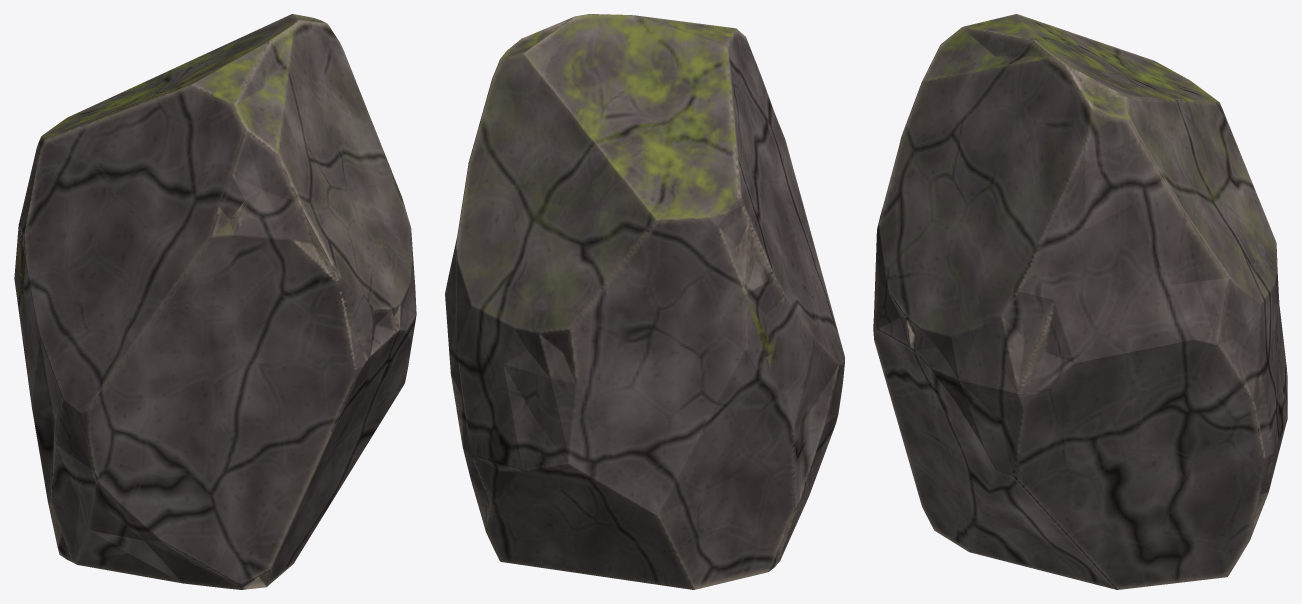
File: Stone_Tall_C.fbx
3 views of the same model, side by side, from view 1: azimuth 30°, elevation 25°; view 2: azimuth 150°, elevation 25°; view 3: azimuth 270°, elevation 25° (orthographic). The views are drawn at different scales.
Visible parts, largest first — view 1: Stone_Tall_C; view 2: Stone_Tall_C; view 3: Stone_Tall_C.
Boxes of the visible parts, x1,y1,x2,y2 form: Stone_Tall_C: (14,14,416,589); Stone_Tall_C: (445,14,844,589); Stone_Tall_C: (873,14,1287,589).
Size of the model in its own units: 0.4331 by 0.5969 by 0.4341.
